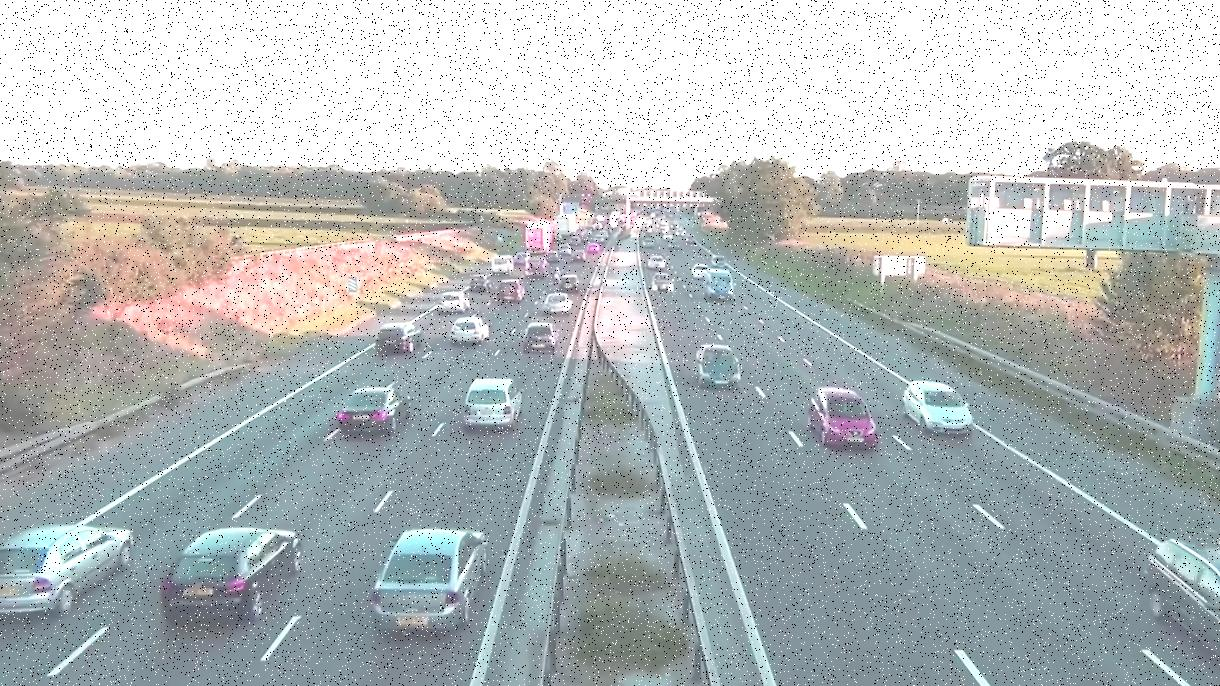car: (158, 525, 310, 626), (361, 522, 493, 637), (0, 518, 133, 619), (1147, 532, 1220, 680), (904, 381, 975, 426), (334, 386, 409, 424), (465, 375, 523, 422), (808, 387, 872, 424), (696, 344, 744, 388), (376, 322, 424, 351), (703, 267, 736, 302), (520, 321, 556, 352), (449, 317, 485, 344), (437, 291, 471, 313), (497, 279, 524, 301), (544, 294, 572, 315), (651, 272, 673, 295), (469, 275, 494, 291), (558, 274, 579, 290)
